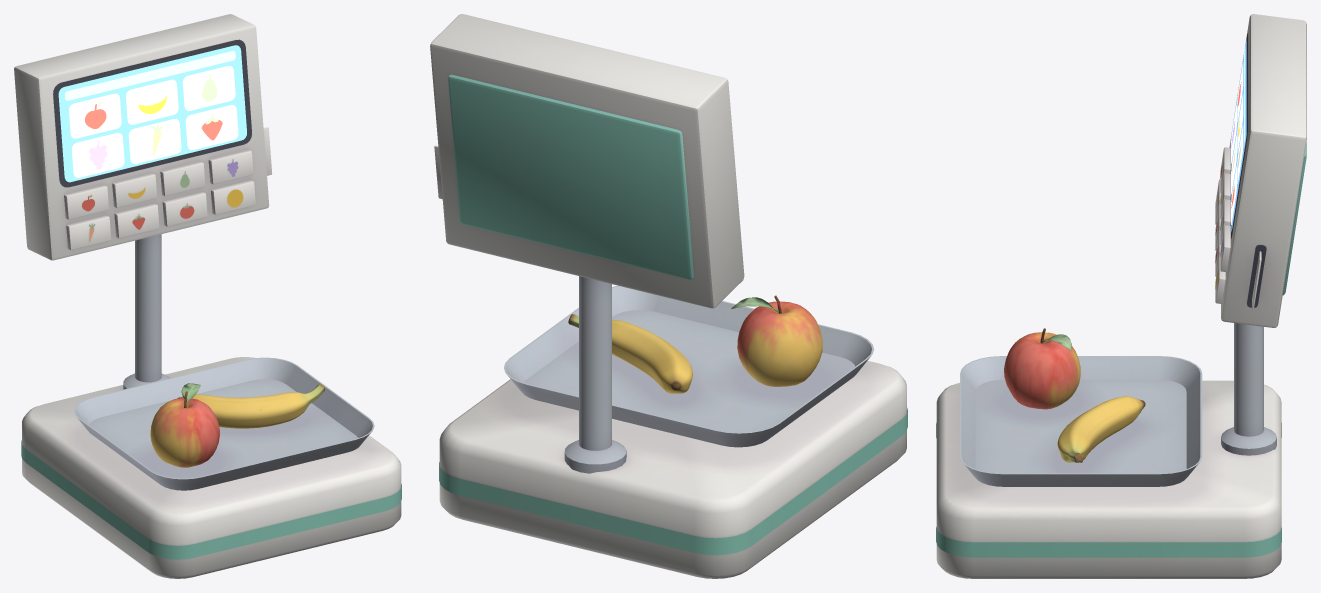
Rendered from produce-scale.glb.
3 views of the same model, side by side, from view 1: azimuth 30°, elevation 25°; view 2: azimuth 150°, elevation 25°; view 3: azimuth 270°, elevation 25° (orthographic). The views are drawn at different scales.
Parts seen in each view (by area): view 1: produce-scale_body, produce-scale_touch_screen; view 2: produce-scale_body; view 3: produce-scale_body, produce-scale_touch_screen.
Boxes of the visible parts, x1,y1,x2,y2 form: produce-scale_body: (14,14,401,578); produce-scale_touch_screen: (58,45,246,182); produce-scale_body: (430,14,907,578); produce-scale_body: (936,14,1306,578); produce-scale_touch_screen: (1231,40,1246,231).
Size of the model in its own units: 0.3426 by 0.5315 by 0.3978.
Materials: 9 (1 with a texture image).
